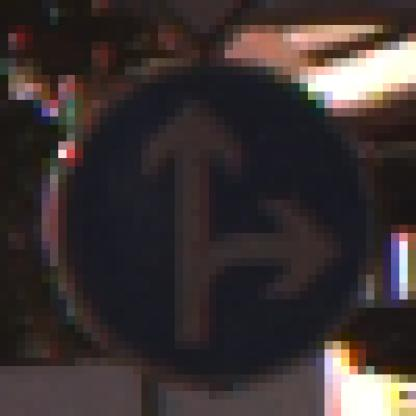Straight or Right: (43, 43, 376, 376)
